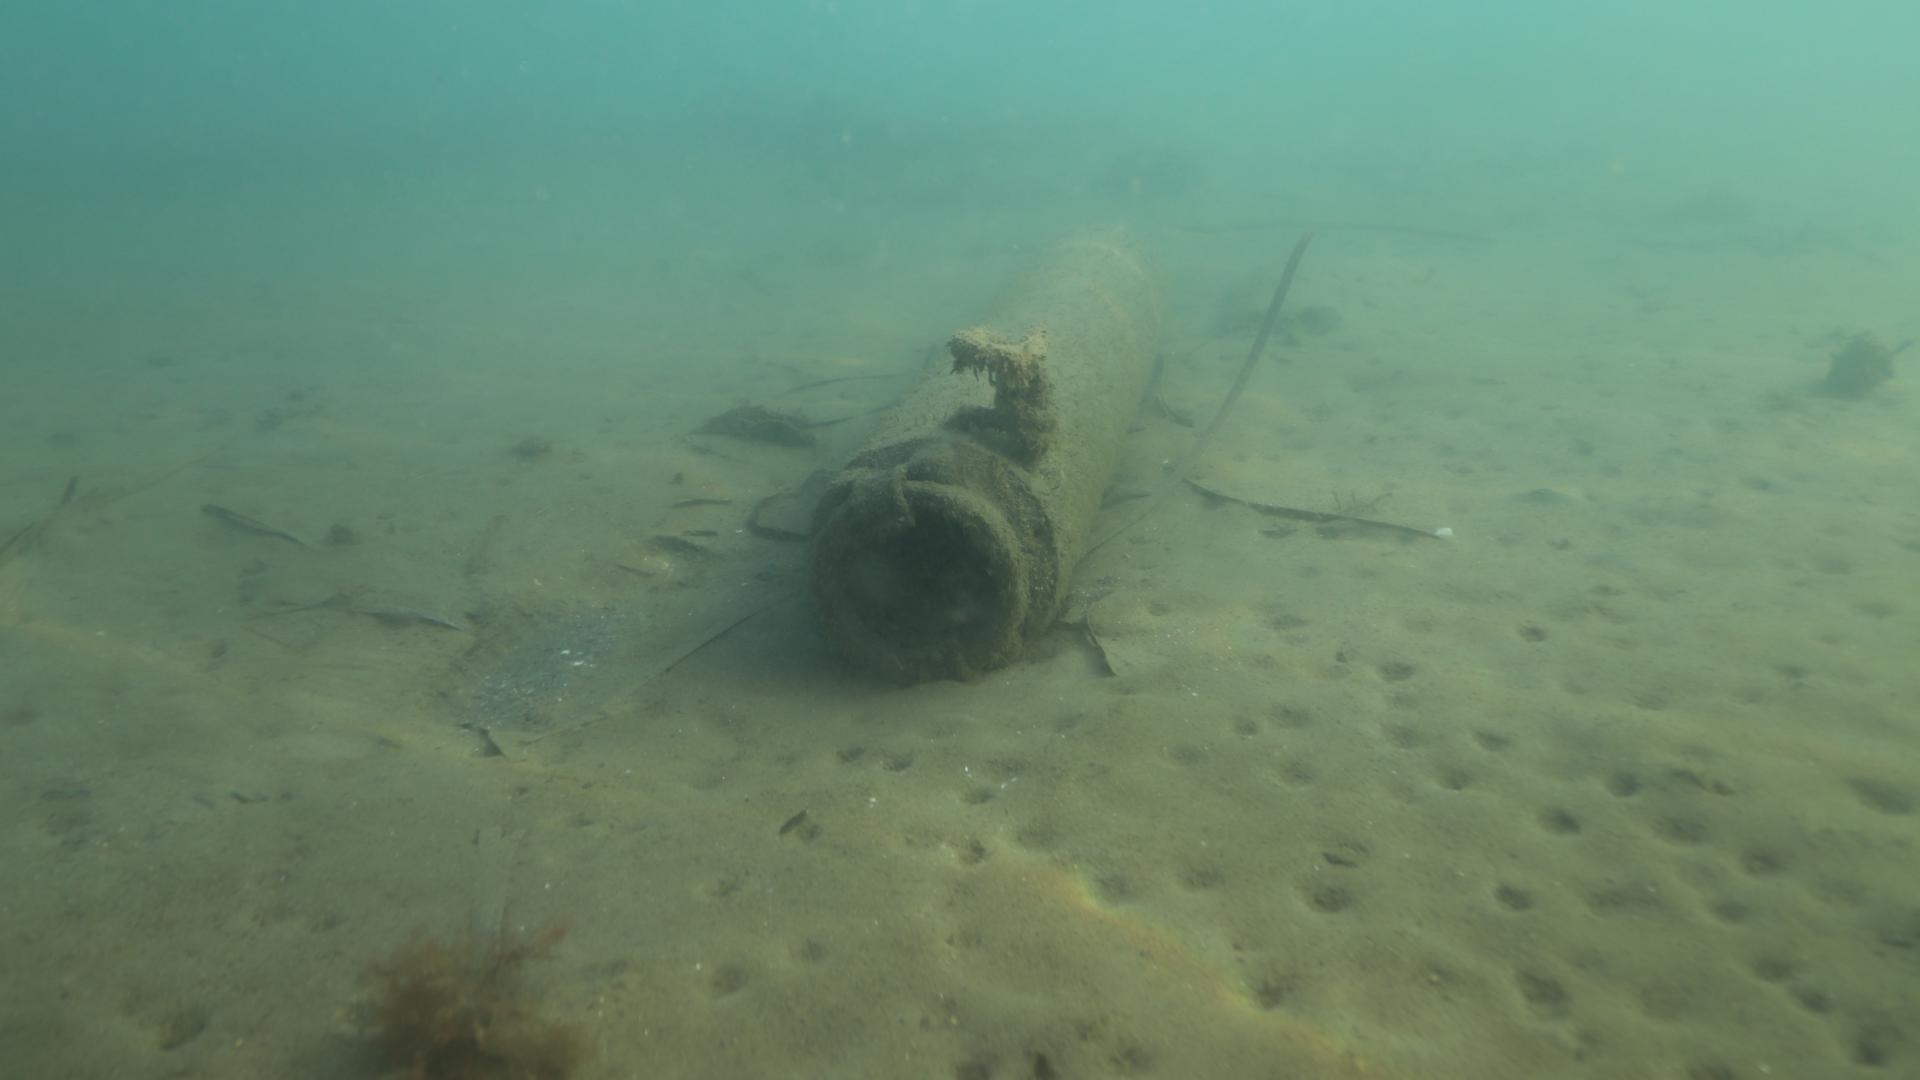eel fish trap: (804, 236, 1170, 680)
